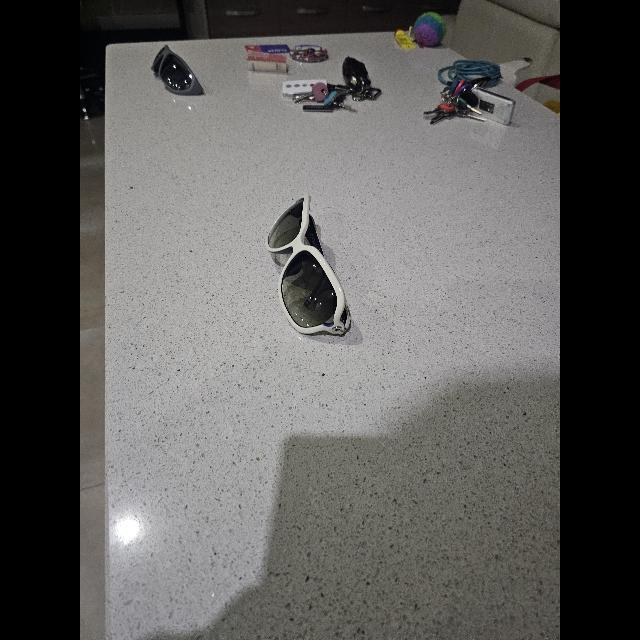Sunglasses: (266, 195, 350, 335), (152, 45, 204, 95)
